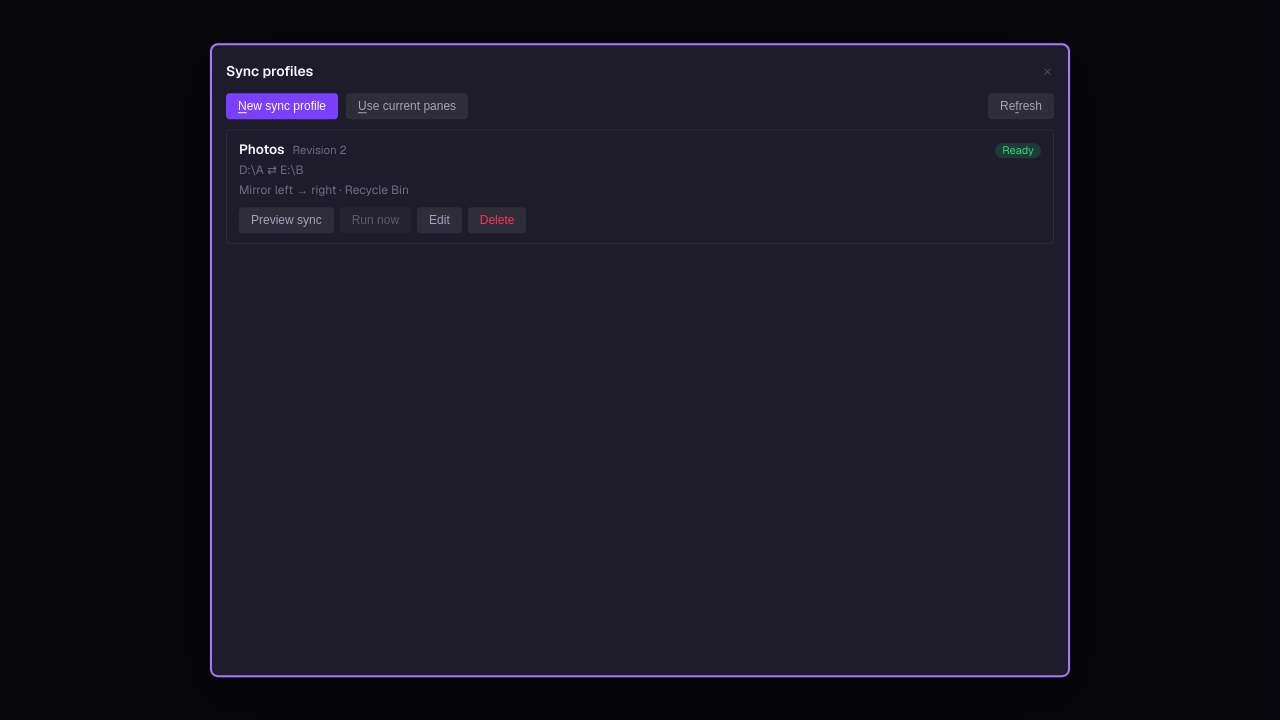
Scenario: SyncProfilesPage › a running status can be hidden to release the buttons
Expected: the text "Photos" is shown, [239,140,284,158]
What coordinates should you click on to do the following:
click the button "Preview sync"
I would click on:
 (286, 220)
Its box is [239,207,334,233].
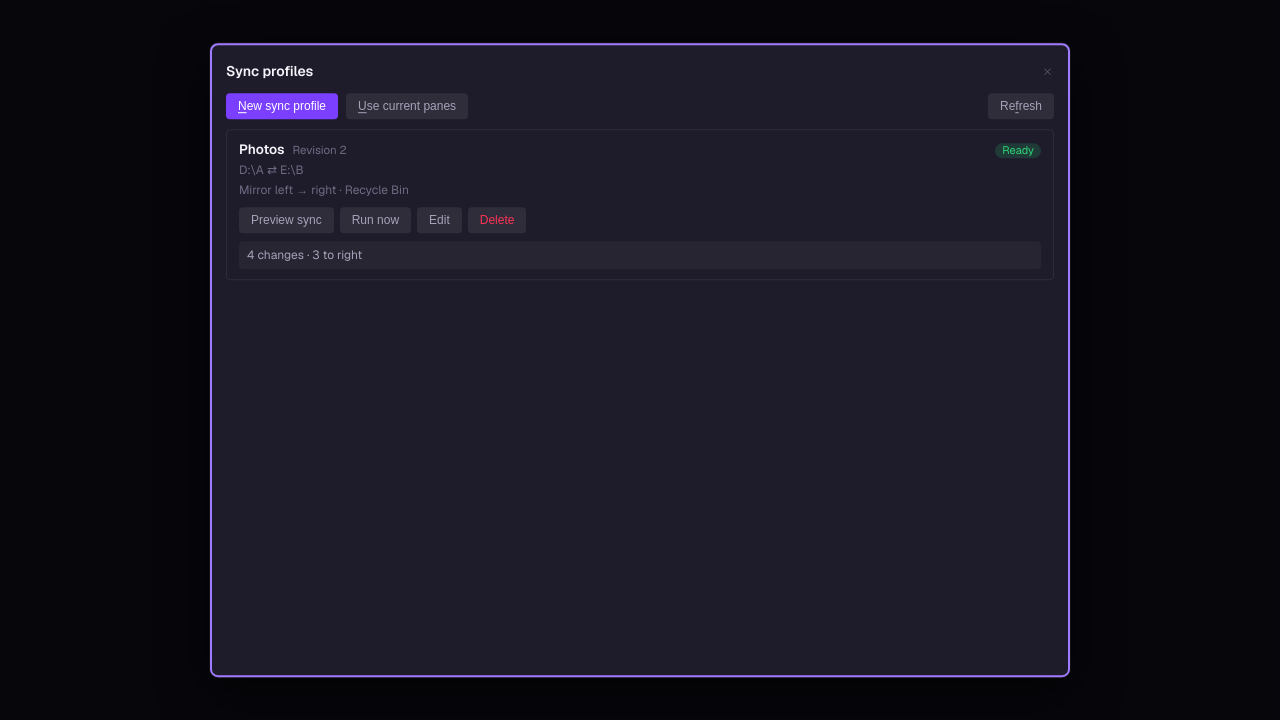
Now the text "4 changes · 3 to right" is shown, box [247,247,362,263]
What coordinates should you click on to do the following:
click the button "Run now"
I would click on:
 (375, 220)
Its box is [340,207,411,233].
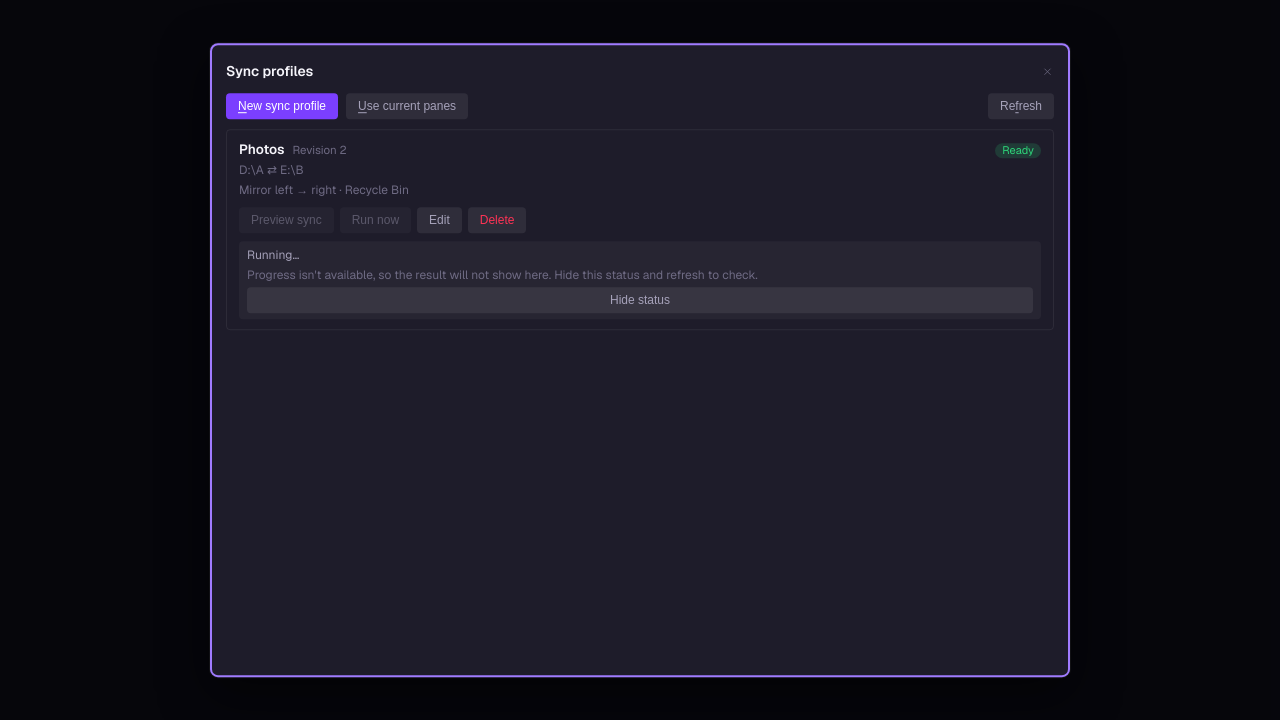
Now the text "Progress isn't available" is shown, box [247,267,758,283]
What coordinates should you click on to do the following:
click the button "Hide status"
I would click on:
 (640, 300)
Its box is [247,287,1033,313].
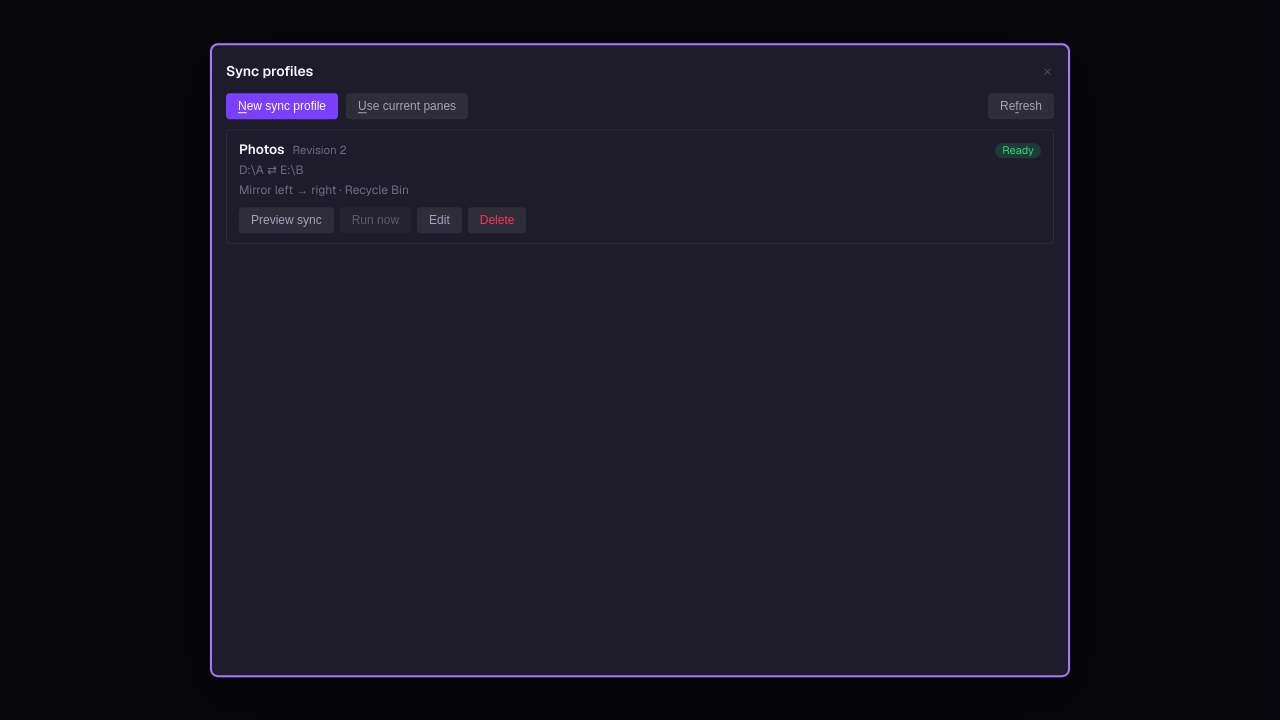
Now the text "Progress isn't available" is gone
